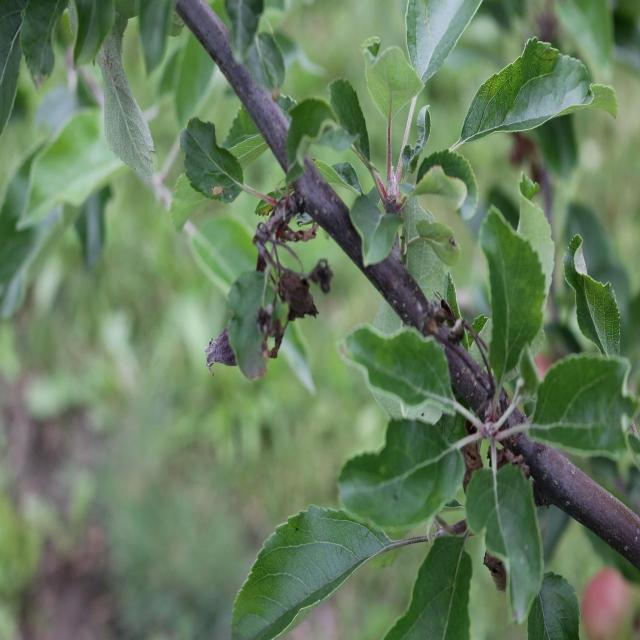-FireBlight-: (228, 194, 334, 338)
